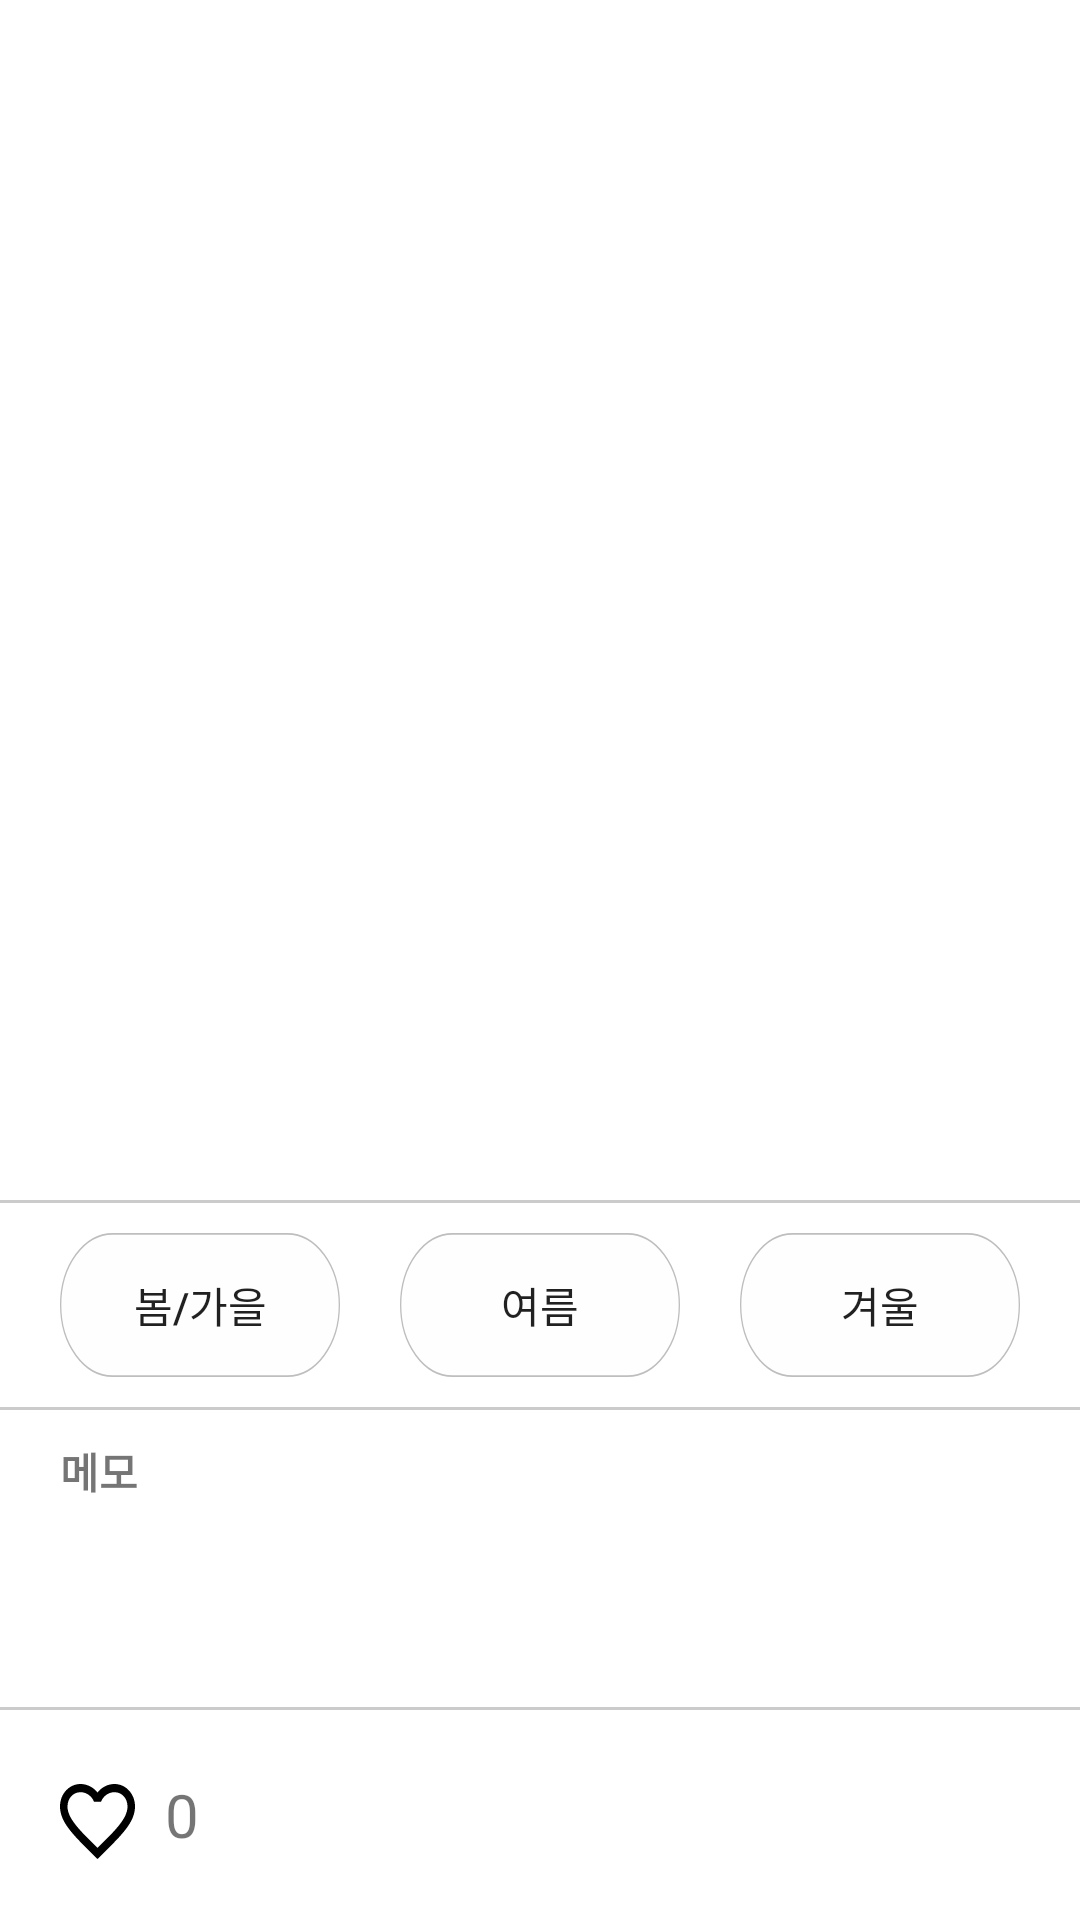

Where to tap for icons on this 1080px x 1920px app screen, as point (x, y):
heart empty: point (97, 1821)
